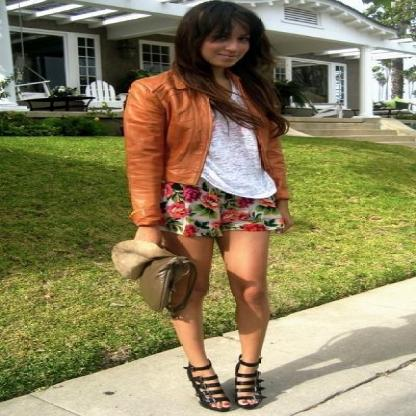jacket: (112, 70, 292, 224)
shirt: (200, 81, 275, 200)
shoe: (183, 358, 264, 395)
shorts: (154, 176, 282, 250)
